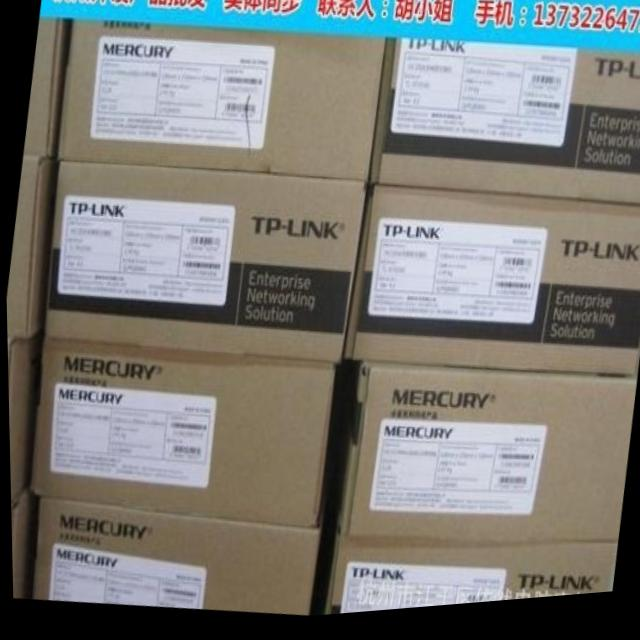box: (44, 162, 365, 368), (28, 339, 334, 532), (342, 192, 640, 389), (56, 21, 386, 187), (338, 367, 634, 552), (369, 44, 640, 216), (29, 496, 320, 619), (322, 534, 614, 620), (5, 155, 56, 339), (6, 323, 43, 502), (24, 19, 70, 158), (9, 486, 33, 597)
